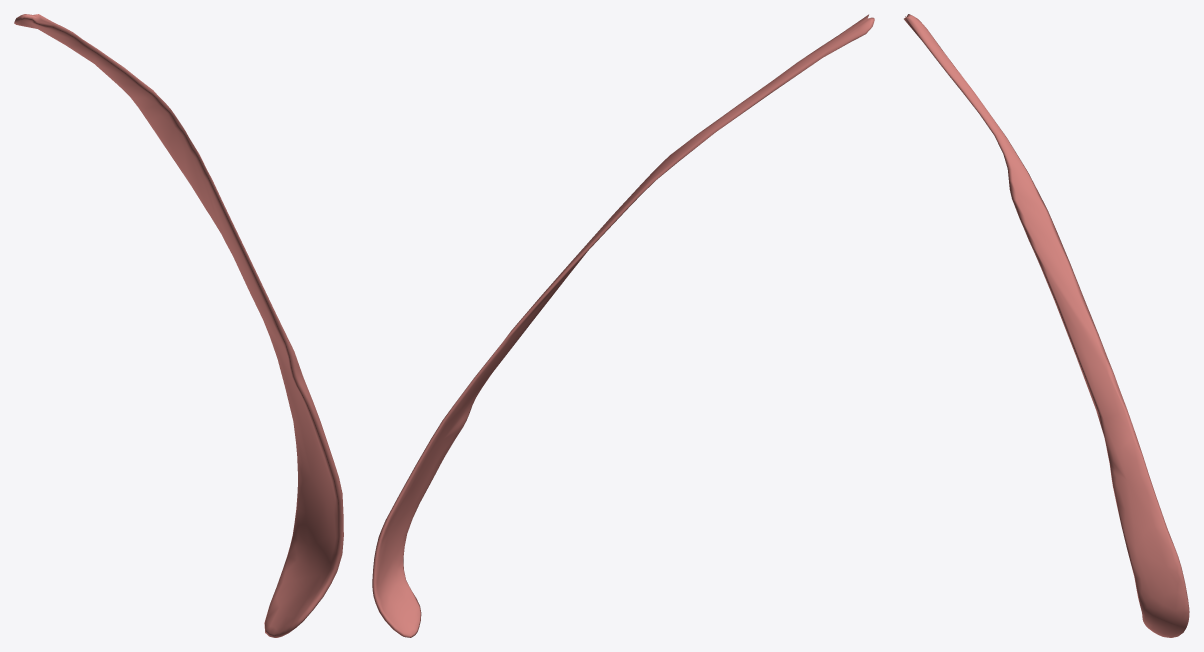
3 views of the same model, side by side, from view 1: azimuth 30°, elevation 25°; view 2: azimuth 150°, elevation 25°; view 3: azimuth 270°, elevation 25° (orthographic). The views are drawn at different scales.
Visible parts, largest first — view 1: ZA_fa068d907ce979e9; view 2: ZA_fa068d907ce979e9; view 3: ZA_fa068d907ce979e9.
Boxes of the visible parts, <box> form: ZA_fa068d907ce979e9: <box>14,14,343,637</box>; ZA_fa068d907ce979e9: <box>372,14,874,637</box>; ZA_fa068d907ce979e9: <box>904,14,1189,637</box>.
Size of the model in its own units: 0.0375 by 0.0605 by 0.0316.
